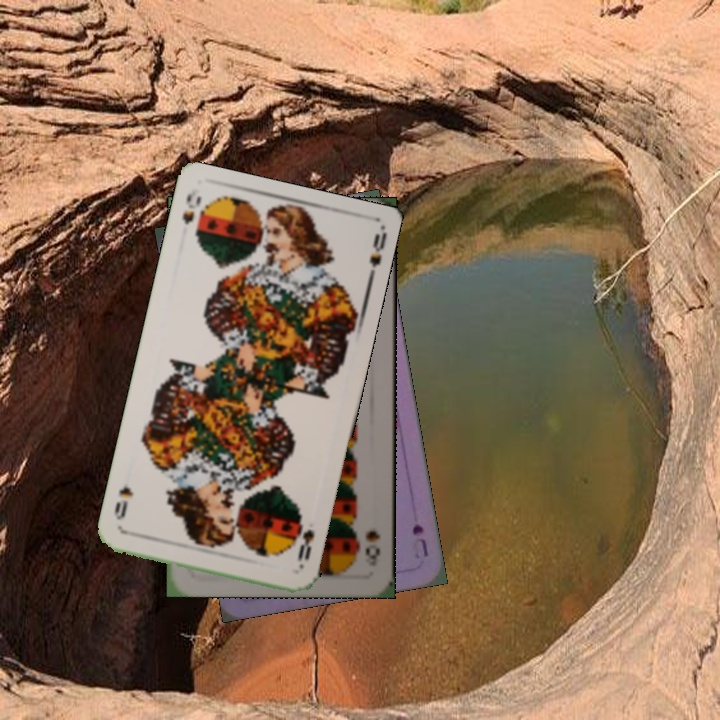S8: (361, 526, 382, 562)
SO: (178, 189, 204, 226), (293, 525, 317, 564)
SU: (408, 520, 431, 560)
